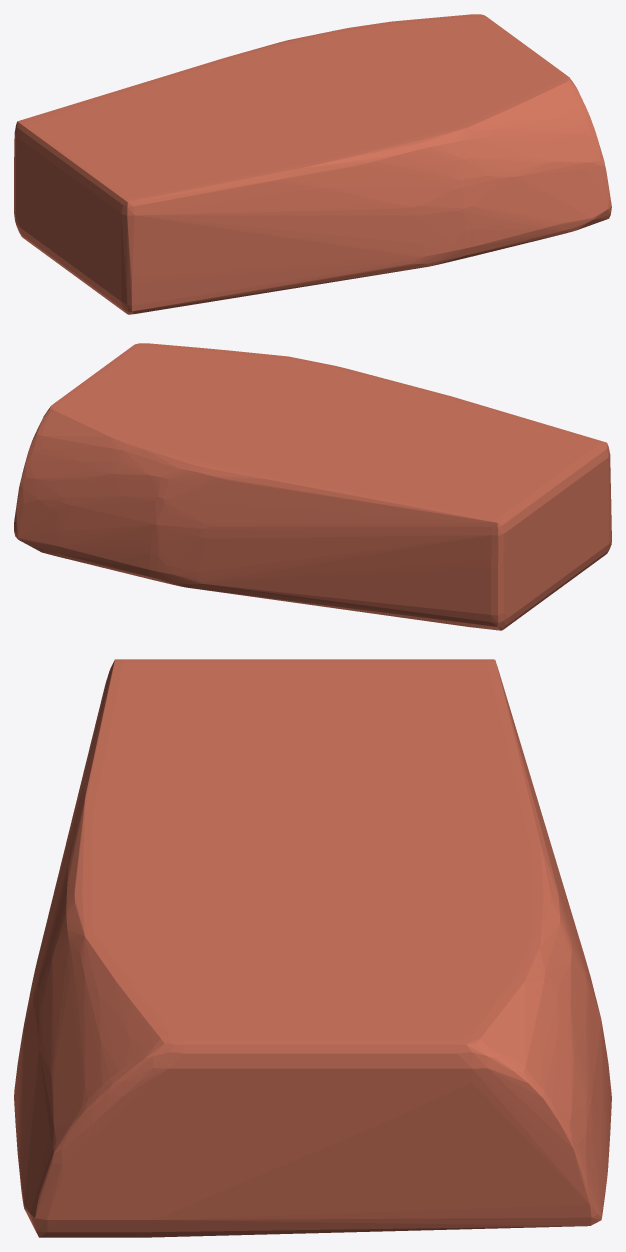
The model's file is right-shin-0_part_9.obj.
The picture shows the model from 3 angles, top to bottom: view 1: azimuth 30°, elevation 25°; view 2: azimuth 150°, elevation 25°; view 3: azimuth 270°, elevation 25°; orthographic projection. The views are drawn at different scales.
Bounding box in the file's own units: 0.1463 × 0.0338 × 0.0944.
